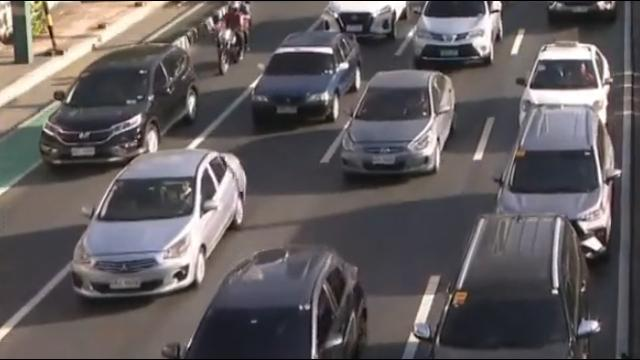car: (73, 150, 248, 299), (417, 215, 591, 360), (162, 245, 367, 360), (40, 43, 198, 162), (494, 106, 614, 259), (343, 70, 458, 175), (250, 31, 363, 122), (517, 41, 612, 135), (410, 0, 503, 64), (322, 0, 407, 41), (543, 0, 618, 24)
motorcycle: (215, 1, 250, 77)
